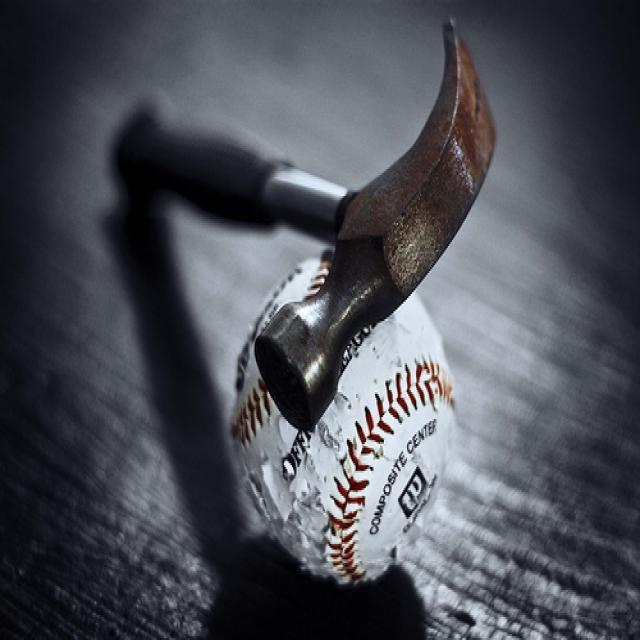hammer: (86, 0, 509, 437)
